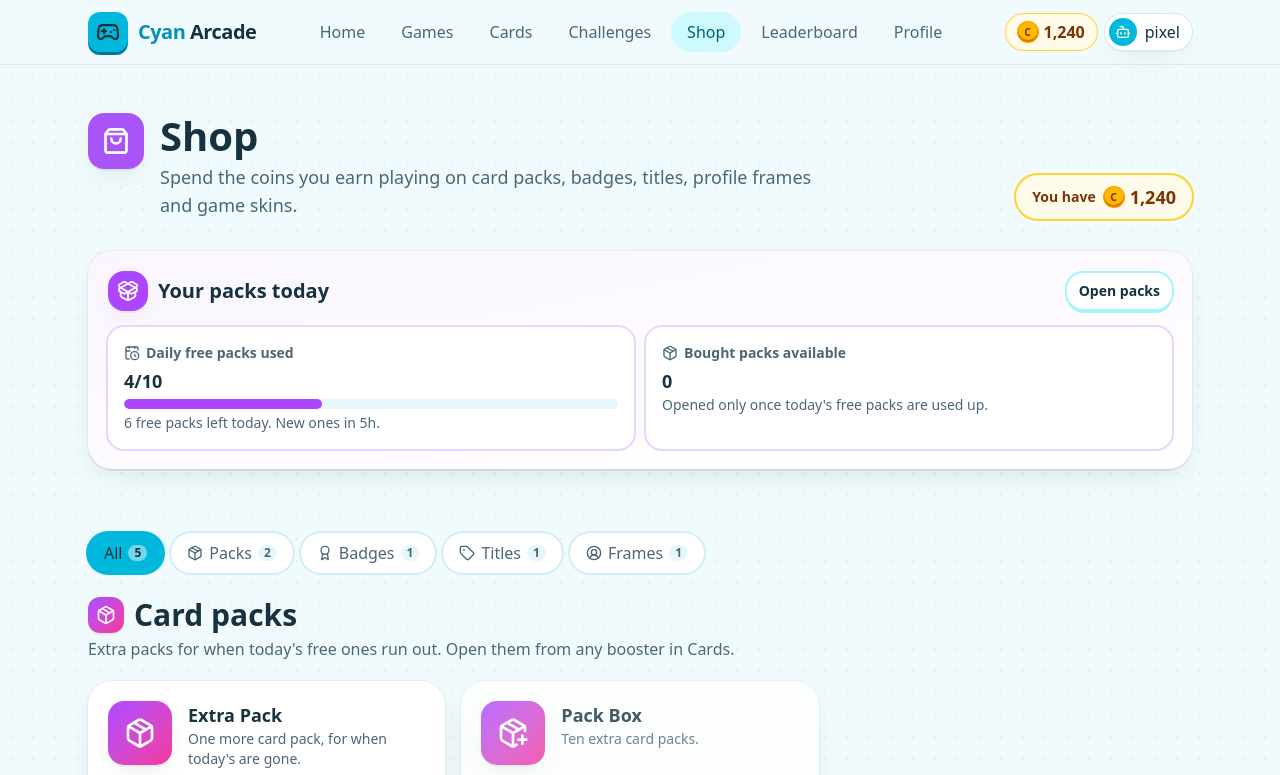
the shop, by category › filters the shelves by category, and remembers it in the address
Click the button "Frames 1".
click(637, 553)  # box [570,533,704,573]
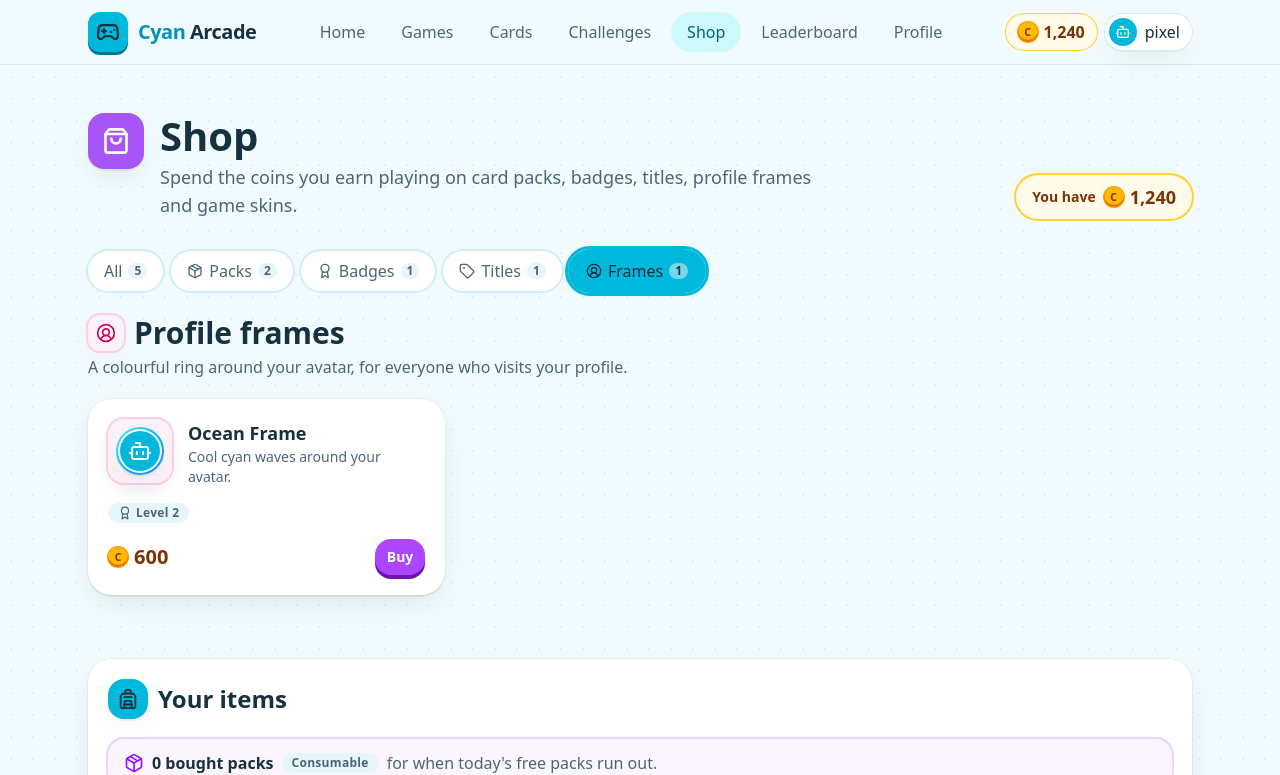
Expected: the element "Ocean Frame" is shown, [88,399,445,595]
Result: the text "Extra pack" is gone
Result: the heading "Your packs today" is gone
Click the button "All 5".
click(126, 271)  # box [88,251,163,291]
(page scrolled)
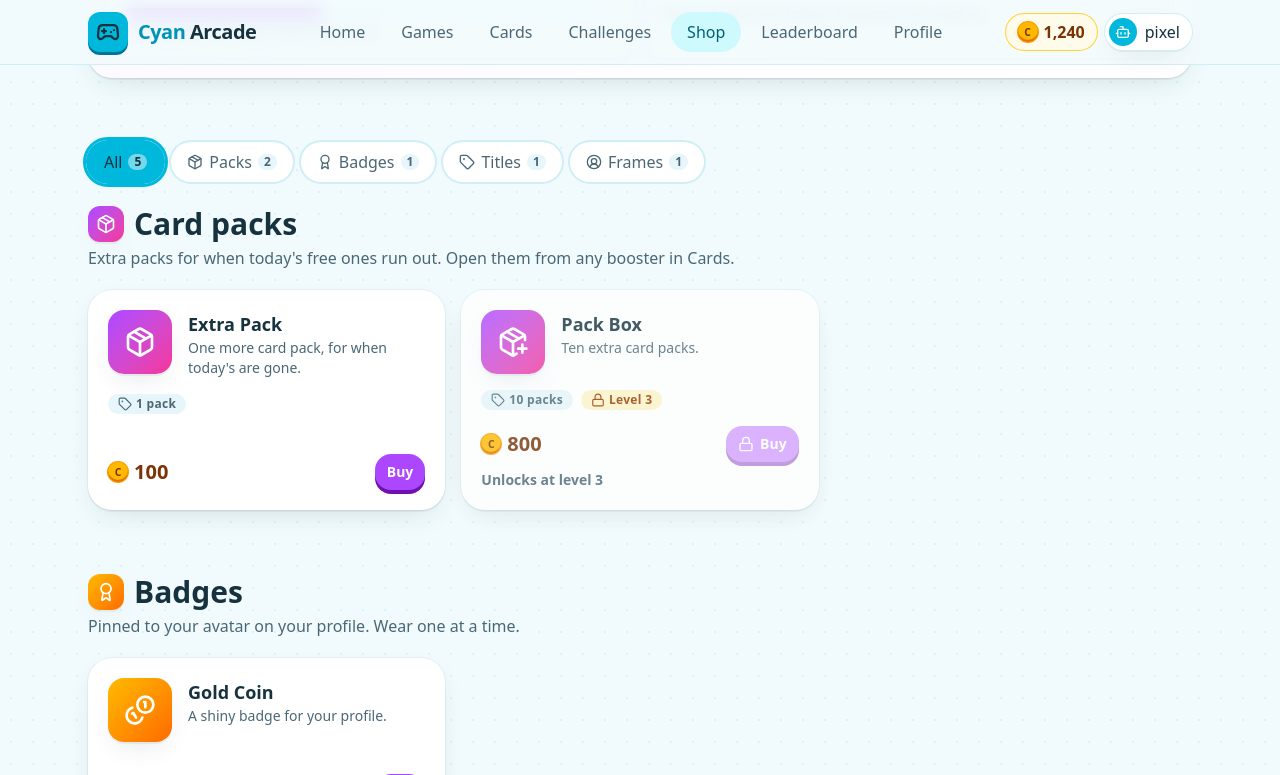
Result: the element "Extra Pack" is shown at [88,290,445,510]
